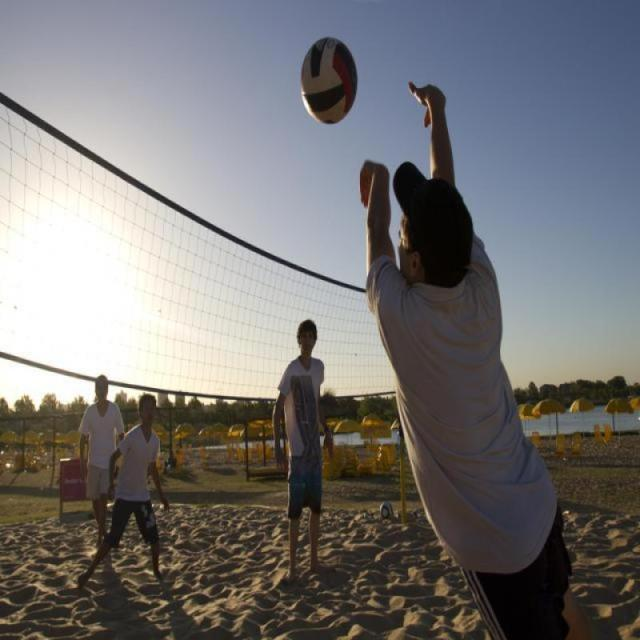volleyball: (299, 33, 359, 123)
